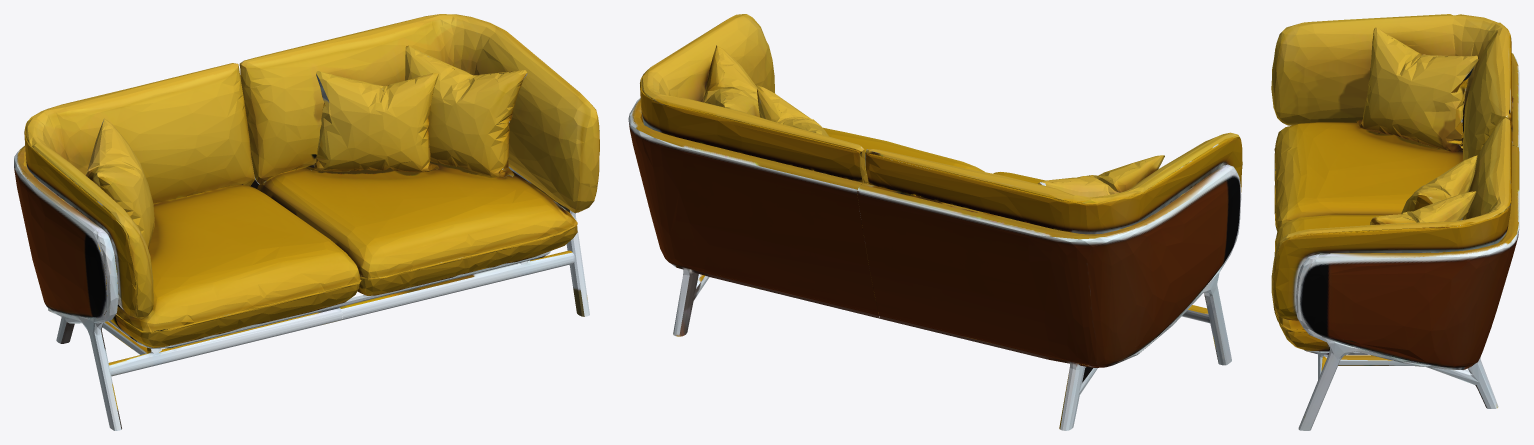
Rendered from edited_mesh.glb.
3 renders of one model, left to right at view 1: azimuth 30°, elevation 25°; view 2: azimuth 150°, elevation 25°; view 3: azimuth 270°, elevation 25°, orthographic. The views are drawn at different scales.
Parts seen in each view (by area): view 1: solid_001_wire; view 2: solid_001_wire; view 3: solid_001_wire.
Boxes of the visible parts, <box> form: solid_001_wire: <box>14,14,599,430</box>; solid_001_wire: <box>628,14,1242,430</box>; solid_001_wire: <box>1271,14,1519,430</box>.
Bounding box in the file's own units: 2 × 0.8758 × 0.9391.
1 material, 1 textured.
